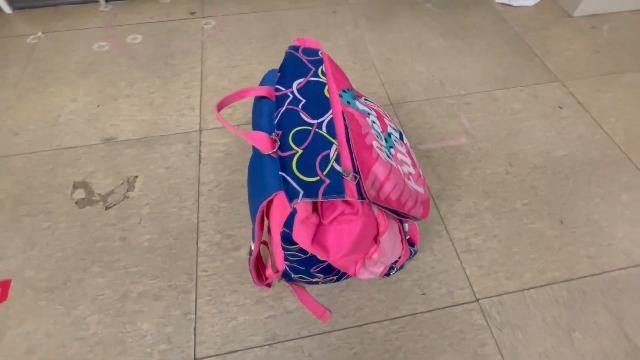Backpack: (209, 33, 437, 332)
